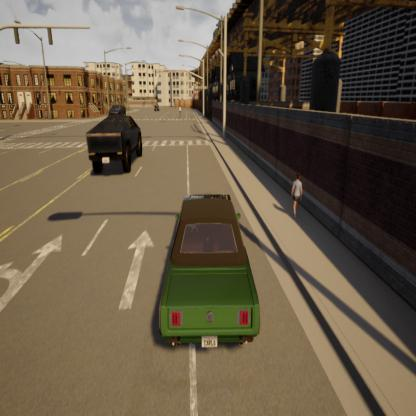Cars: (152, 183, 276, 366), (86, 108, 149, 183), (100, 99, 126, 122), (153, 100, 160, 114)
Pedestrian: (286, 167, 308, 226)
